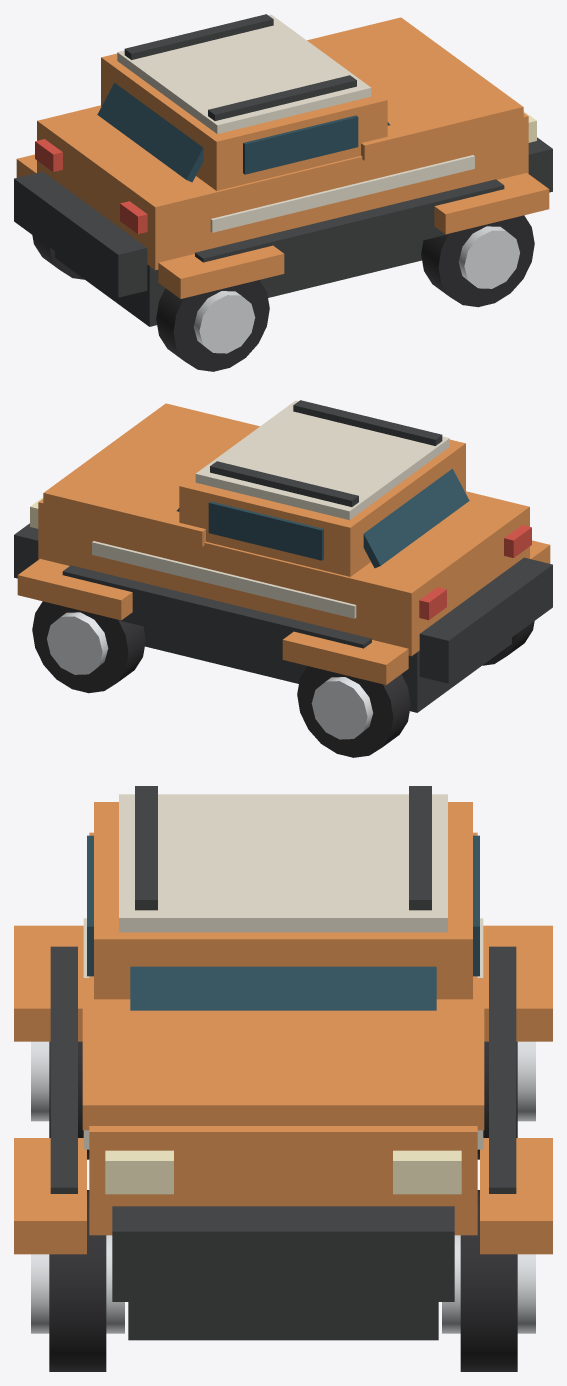
Rendered from toy_offroad.gltf.
The picture shows the model from 3 angles, top to bottom: view 1: azimuth 30°, elevation 25°; view 2: azimuth 150°, elevation 25°; view 3: azimuth 270°, elevation 25°; orthographic projection. The views are drawn at different scales.
Parts seen in each view (by area): view 1: body, hood, roof, cabin, bumper_r, rocker_l, chassis, wheel_rl, tire_fl, rear_window, fender_2, stripe_l (+10 smaller); view 2: body, hood, roof, cabin, bumper_r, rocker_r, chassis, wheel_rr, tire_fr, rear_window, fender_3, stripe_r (+10 smaller); view 3: hood, roof, bumper_f, body, cabin, windshield, chassis, tire_fl, tire_fr, fender_0, fender_1, rocker_l (+15 smaller).
Part boxes in pixels (x1=…): body: x1=37, y1=105, x2=528, y2=270; hood: x1=307, y1=17, x2=523, y2=160; roof: x1=117, y1=14, x2=371, y2=133; cabin: x1=101, y1=53, x2=387, y2=190; bumper_r: x1=14, y1=171, x2=147, y2=297; rocker_l: x1=195, y1=179, x2=504, y2=280; chassis: x1=55, y1=240, x2=423, y2=326; wheel_rl: x1=156, y1=280, x2=269, y2=371; tire_fl: x1=421, y1=215, x2=534, y2=307; rear_window: x1=97, y1=83, x2=203, y2=182; fender_2: x1=158, y1=245, x2=284, y2=298; stripe_l: x1=210, y1=155, x2=474, y2=232; body: x1=38, y1=491, x2=529, y2=656; hood: x1=43, y1=403, x2=259, y2=546; roof: x1=195, y1=400, x2=449, y2=519; cabin: x1=179, y1=439, x2=465, y2=576; bumper_r: x1=419, y1=557, x2=552, y2=683; rocker_r: x1=62, y1=565, x2=371, y2=666; chassis: x1=143, y1=626, x2=511, y2=712; wheel_rr: x1=297, y1=666, x2=410, y2=757; tire_fr: x1=32, y1=601, x2=145, y2=693; rear_window: x1=363, y1=469, x2=469, y2=568; fender_3: x1=282, y1=631, x2=408, y2=684; stripe_r: x1=92, y1=541, x2=356, y2=618; hood: x1=82, y1=978, x2=484, y2=1130; roof: x1=119, y1=794, x2=447, y2=932; bumper_f: x1=112, y1=1206, x2=454, y2=1301; body: x1=89, y1=832, x2=477, y2=1235; cabin: x1=94, y1=802, x2=472, y2=999; windshield: x1=130, y1=966, x2=436, y2=1010; chassis: x1=128, y1=1302, x2=438, y2=1340; tire_fl: x1=49, y1=1190, x2=106, y2=1371; tire_fr: x1=460, y1=1190, x2=517, y2=1371; fender_0: x1=14, y1=1138, x2=86, y2=1254; fender_1: x1=480, y1=1138, x2=552, y2=1254; rocker_l: x1=50, y1=946, x2=77, y2=1193.
Size of the model in its own units: 0.361 by 0.1834 by 0.236.
